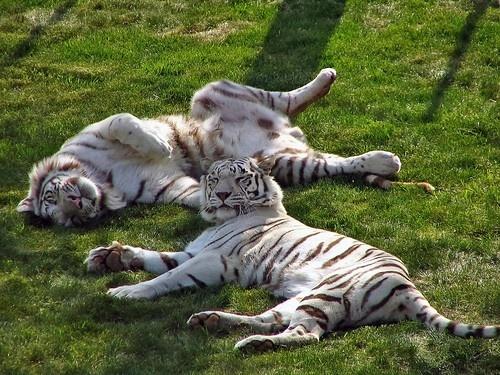tigre: (83, 158, 494, 353), (18, 67, 430, 228)
